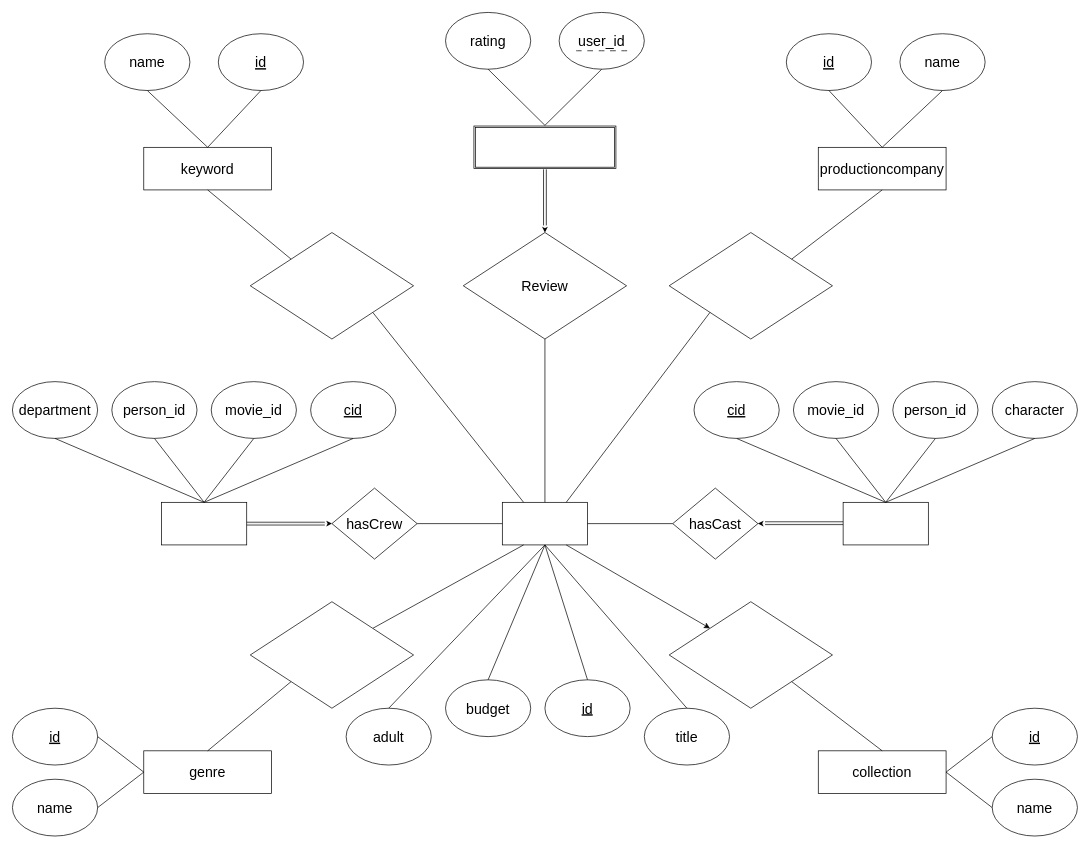
Image size: 1090x848. Some labels were removed from this diagram. Each missing label, with the centre of its shape:
bellongsTocollection: [750,654]
hasGenre: [332,654]
hasKeyword: [332,285]
hasProductioncompany: [750,285]
movie: [545,523]
movie_cast: [885,523]
movie_crew: [204,523]
ratings: [544,147]
